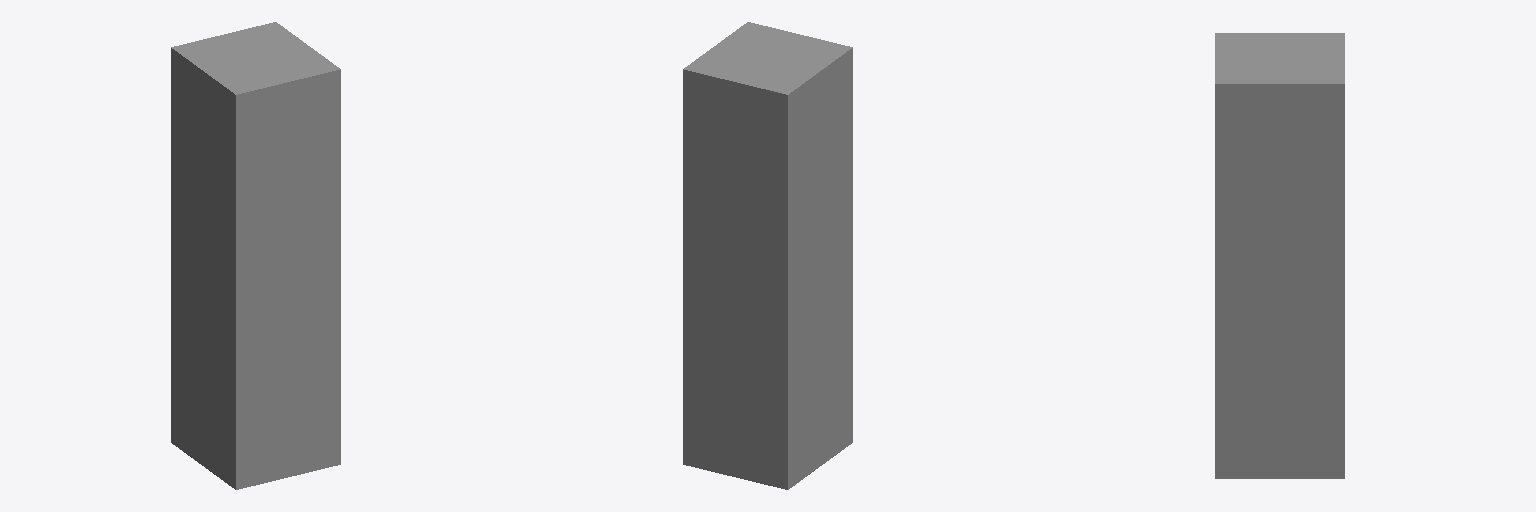
The model's file is man.obj.
3 views of the same model, side by side, from view 1: azimuth 30°, elevation 25°; view 2: azimuth 150°, elevation 25°; view 3: azimuth 270°, elevation 25° (orthographic).
Visible parts, largest first — view 1: Cube; view 2: Cube; view 3: Cube.
Boxes of the visible parts, x1=… form: Cube: x1=171, y1=22, x2=340, y2=489; Cube: x1=683, y1=22, x2=852, y2=489; Cube: x1=1215, y1=33, x2=1344, y2=478.
Bounding box in the file's own units: 1.05 × 3.79 × 1.13.